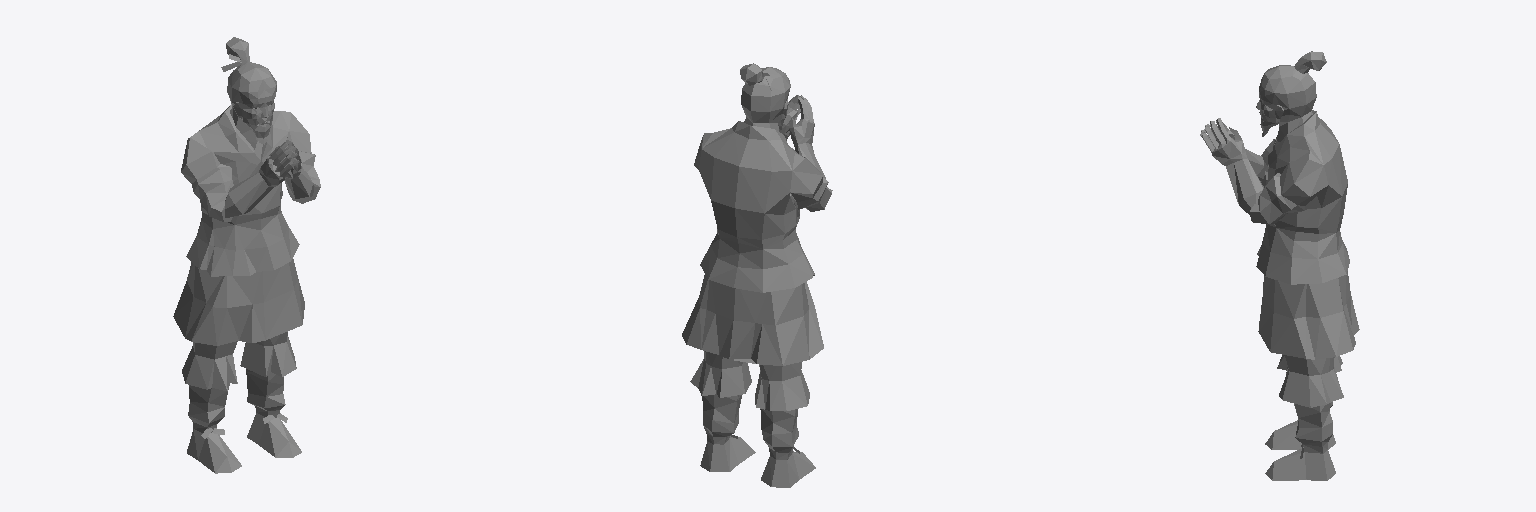
Rendered from laohan.obj.
3 renders of one model, left to right at view 1: azimuth 30°, elevation 25°; view 2: azimuth 150°, elevation 25°; view 3: azimuth 270°, elevation 25°, orthographic.
Parts seen in each view (by area): view 1: Obj3d66_659159_88_39; view 2: Obj3d66_659159_88_39; view 3: Obj3d66_659159_88_39.
Boxes of the visible parts, box(x1,y1,x2,y2) form: Obj3d66_659159_88_39: box(173, 37, 320, 473); Obj3d66_659159_88_39: box(682, 63, 832, 487); Obj3d66_659159_88_39: box(1200, 51, 1359, 480).
Bounding box in the file's own units: 21.97 × 68.5 × 24.23.